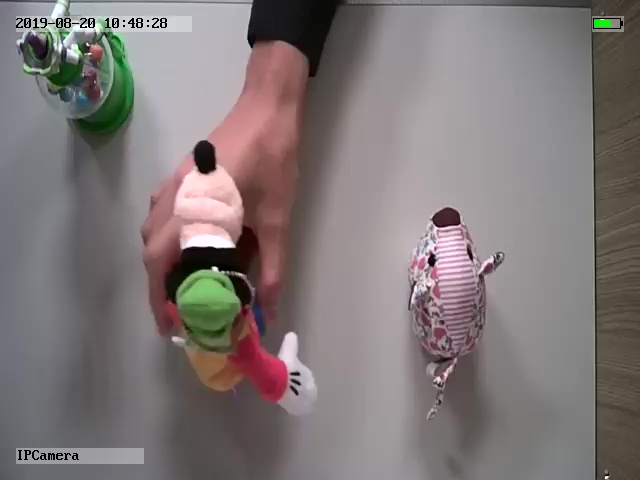buzz: (16, 3, 138, 128)
goofy: (164, 140, 318, 418)
pig: (405, 203, 505, 421)
